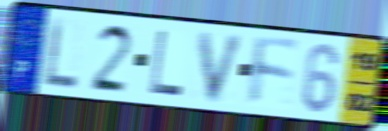2: (86, 22, 136, 95)
6: (300, 41, 341, 116)
F: (248, 33, 302, 109)
L: (147, 27, 185, 99), (44, 15, 80, 90)
V: (196, 29, 249, 106)
